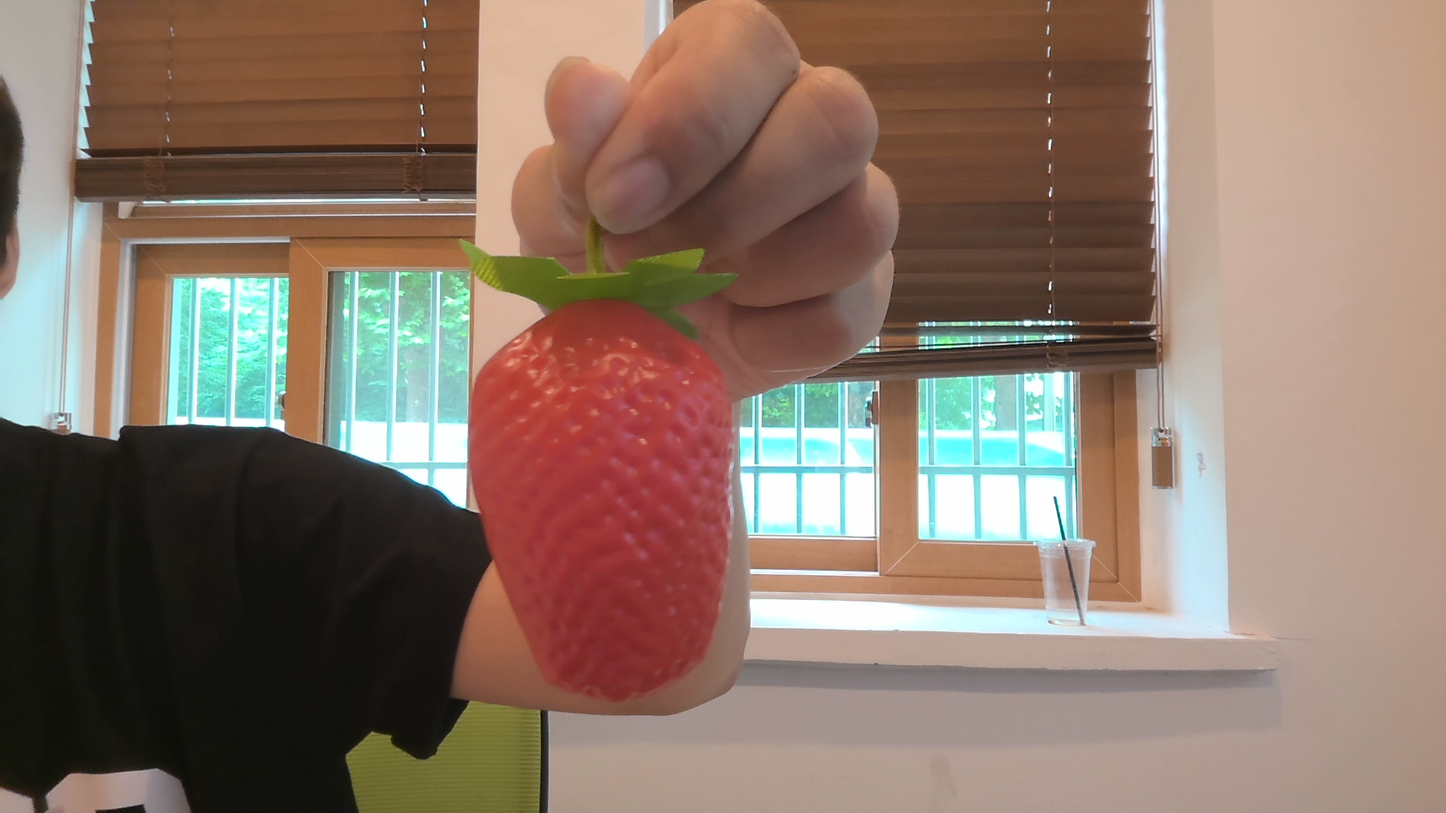strawberry: (461, 273, 740, 699)
